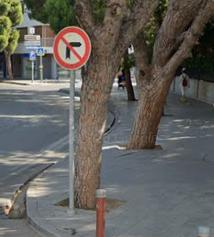rightturnsareforbidden: (53, 26, 93, 69)
